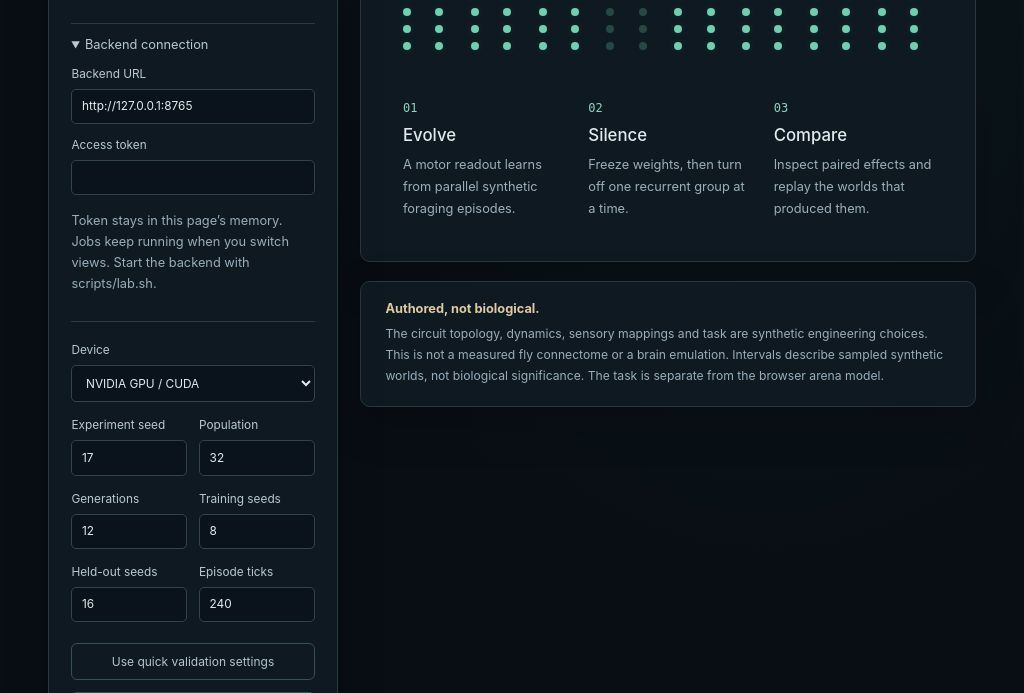
Test: Lab lifecycle › retains job identity on polling failure and reconnects without resubmission
The width and height of the screenshot is (1024, 693).
(page scrolled)
Submit the form
(page scrolled)
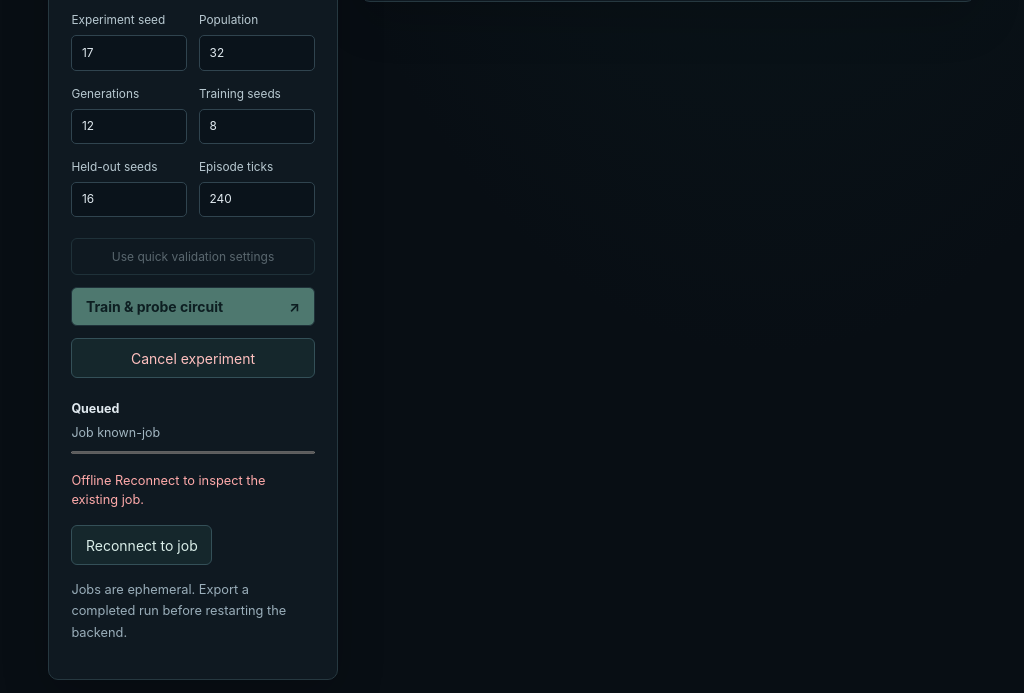
Check: the button "Train & probe circuit ↗" is disabled, box [71,287,315,327]
Check: the message "Offline Reconnect to inspect the existing job." is shown, box [71,473,266,507]
Click the button "Reconnect to job" at (142, 545), box [71,526,212,565]
(page scrolled)
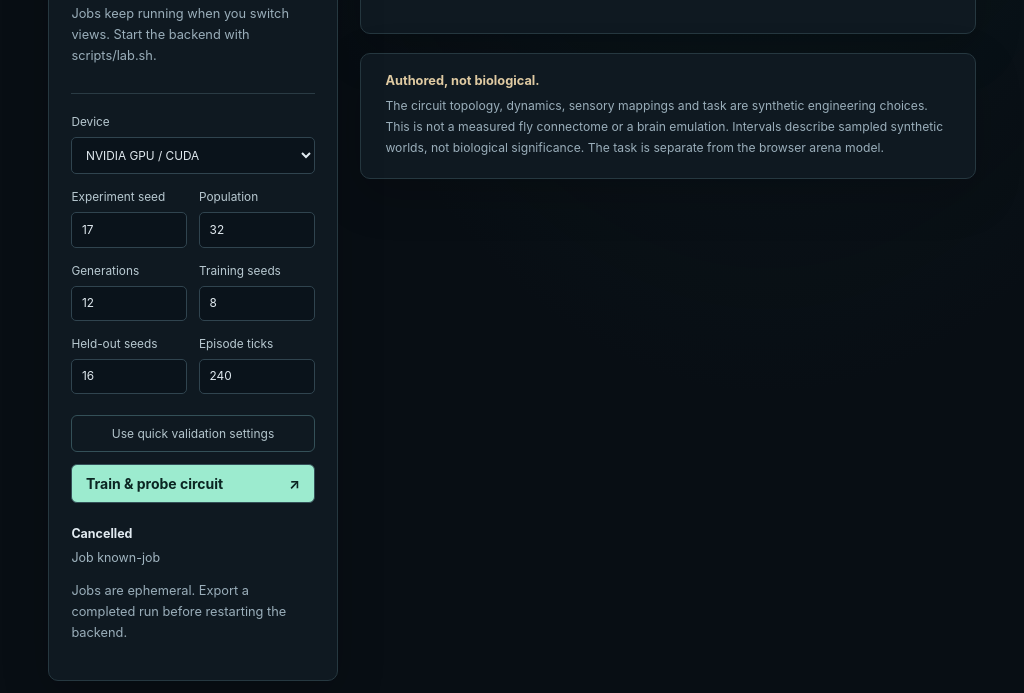
Check: the message shows "cancelled", box [71,526,132,541]
